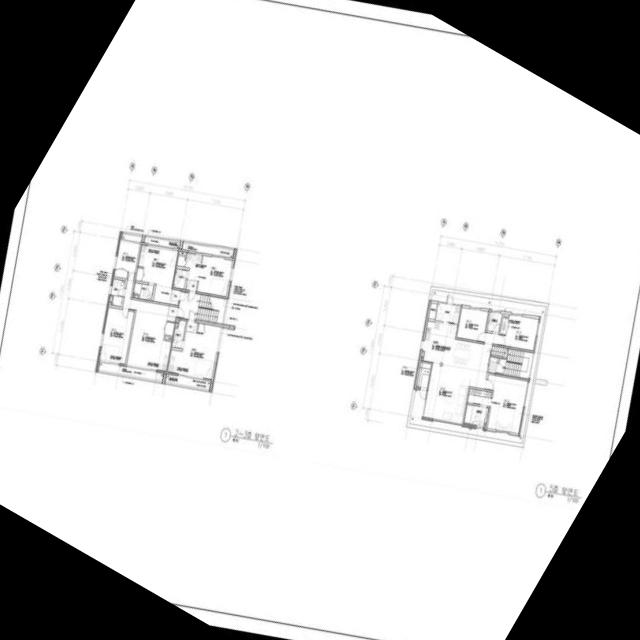background: (0, 0, 640, 640)
space_balconi: (409, 290, 546, 444), (99, 363, 163, 381), (182, 243, 234, 258), (165, 374, 211, 390), (144, 238, 180, 249), (122, 234, 142, 242)
space_bedroom: (467, 374, 528, 434), (179, 323, 221, 379), (136, 249, 178, 304), (100, 308, 134, 364), (188, 256, 233, 297), (498, 315, 539, 351), (457, 308, 489, 342), (114, 241, 140, 280)
space_front: (488, 357, 498, 373), (167, 306, 177, 322), (186, 321, 198, 334), (170, 290, 180, 305), (186, 279, 198, 291)
space_kitchen: (423, 321, 484, 370), (138, 245, 160, 271), (435, 303, 461, 324), (157, 340, 171, 371), (168, 350, 183, 373), (185, 253, 202, 270)
space_living_room: (424, 333, 499, 424), (123, 281, 175, 369)
space_other: (416, 362, 431, 389), (428, 303, 437, 319), (177, 256, 185, 267), (179, 252, 186, 256), (421, 352, 424, 361), (109, 297, 112, 305), (176, 319, 179, 327), (165, 337, 172, 340), (132, 295, 138, 298), (503, 314, 508, 317)
space_staircase: (177, 291, 226, 324), (491, 346, 533, 379)
space_toilet: (464, 405, 489, 426), (172, 320, 186, 349), (111, 279, 125, 307), (133, 283, 154, 301), (487, 312, 502, 332), (173, 269, 187, 289)
